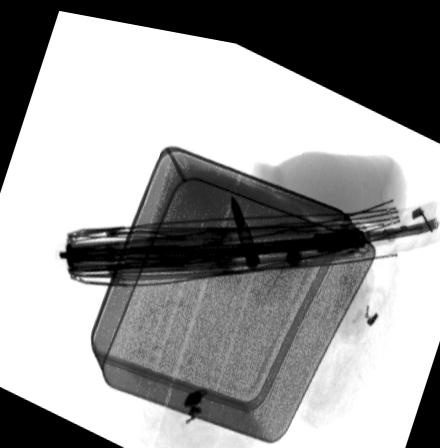Bullet: (230, 181, 260, 259)
